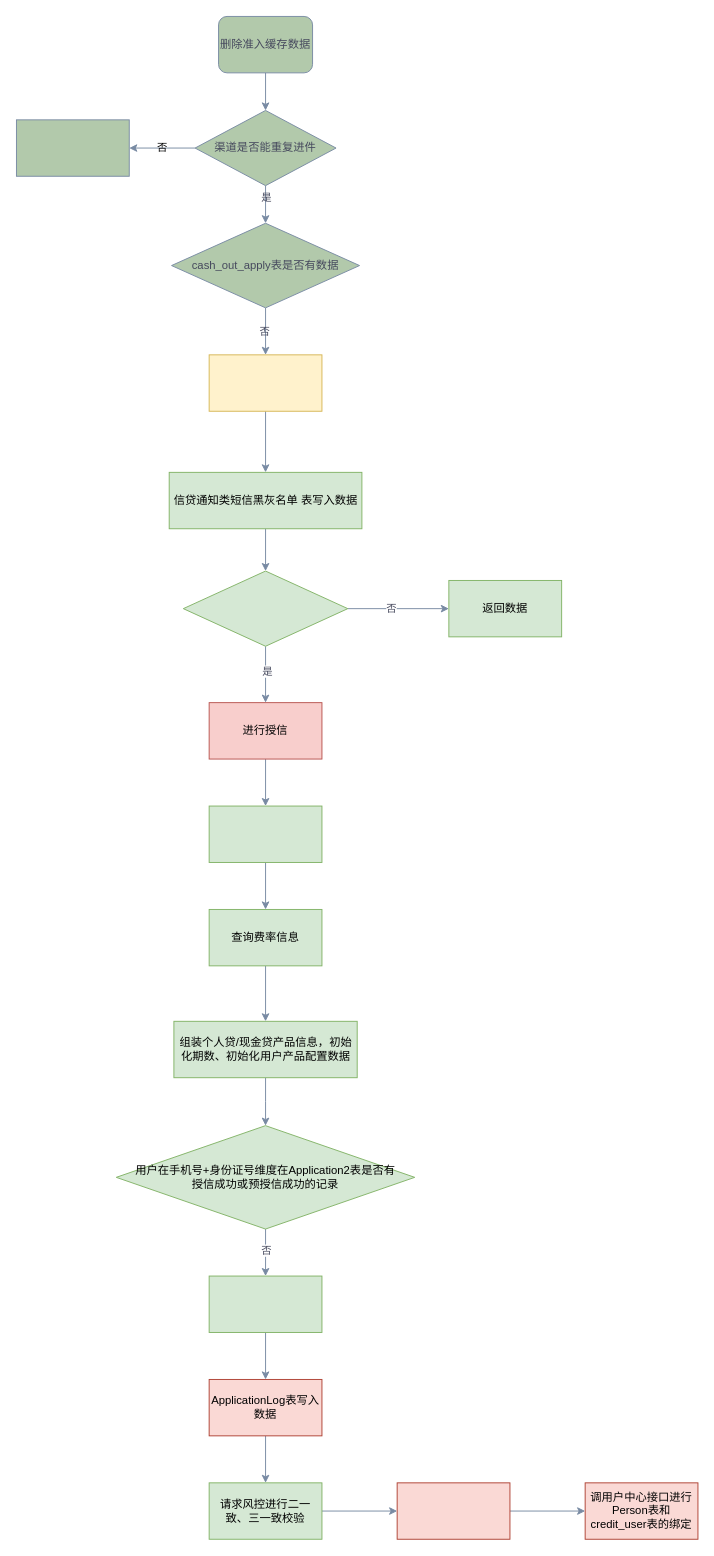
This 714x1556 diagram has some shape labels left out. The shapes that lost their labels are listed below. From the top down, each one's centre as x and y in pixels, then its label:
At point 72,147: "该平台设置不可重复进件".
At point 265,382: "cash_out_apply表写入新数据".
At point 265,608: "apply_status是否为空或NONE".
At point 265,833: "查询风控个人产品信息".
At point 265,1303: "现金贷授信".
At point 453,1510: "通过则往Person表写入数据".
